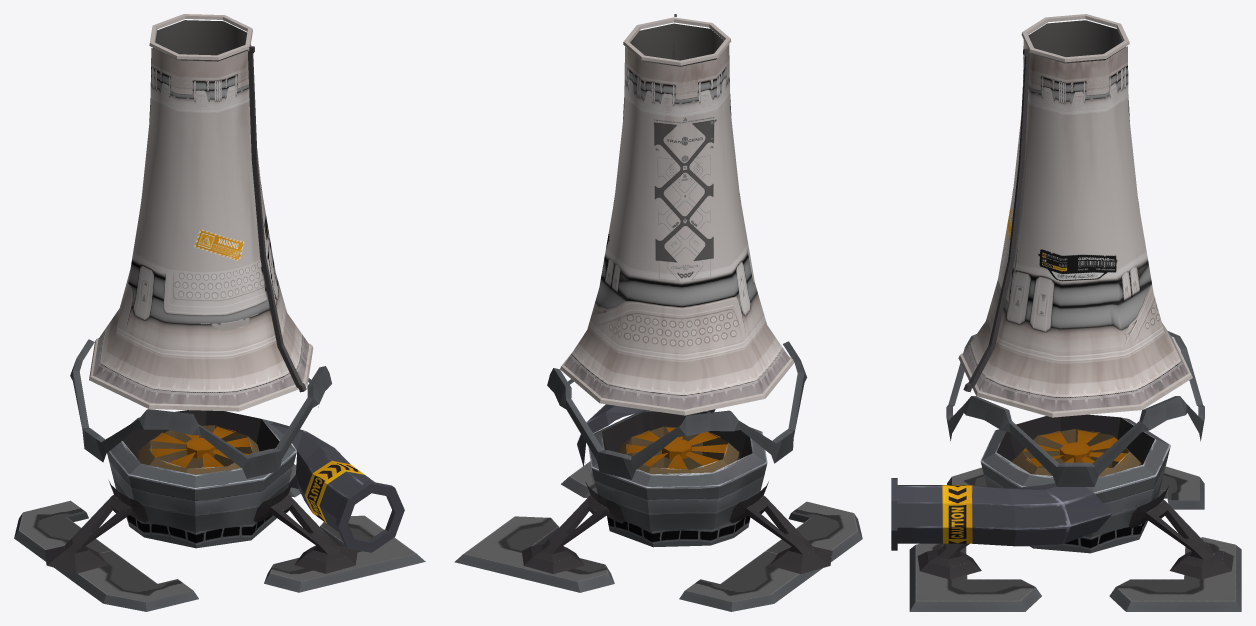
Rendered from chimney-1.glb.
3 views of the same model, side by side, from view 1: azimuth 30°, elevation 25°; view 2: azimuth 150°, elevation 25°; view 3: azimuth 270°, elevation 25° (orthographic).
Parts seen in each view (by area): view 1: Plane; view 2: Plane; view 3: Plane.
Boxes of the visible parts, bbox=[...] form: Plane: bbox=[14, 14, 425, 611]; Plane: bbox=[454, 14, 862, 611]; Plane: bbox=[891, 14, 1241, 611].
Size of the model in its own units: 18.76 by 30.27 by 19.
Materials: 1 (1 with a texture image).
